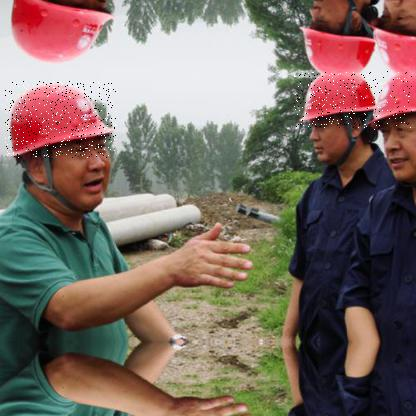safetyhelmet: (6, 82, 118, 160), (294, 72, 378, 129), (370, 71, 415, 132)
